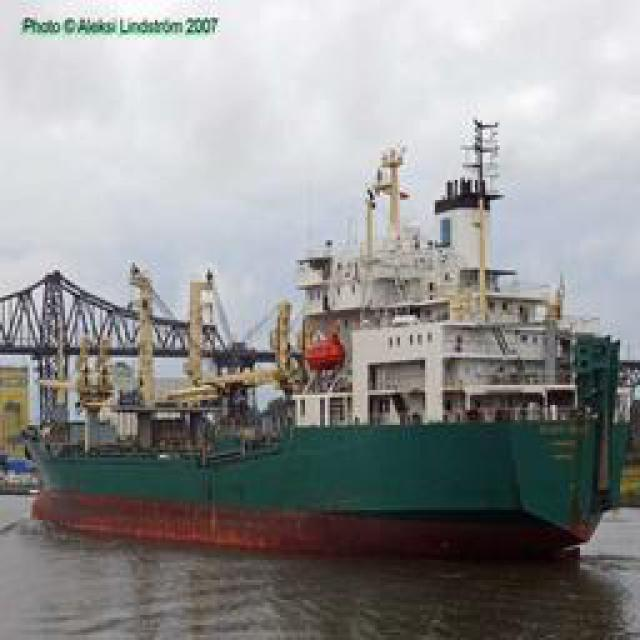Ship: (22, 95, 612, 563)
